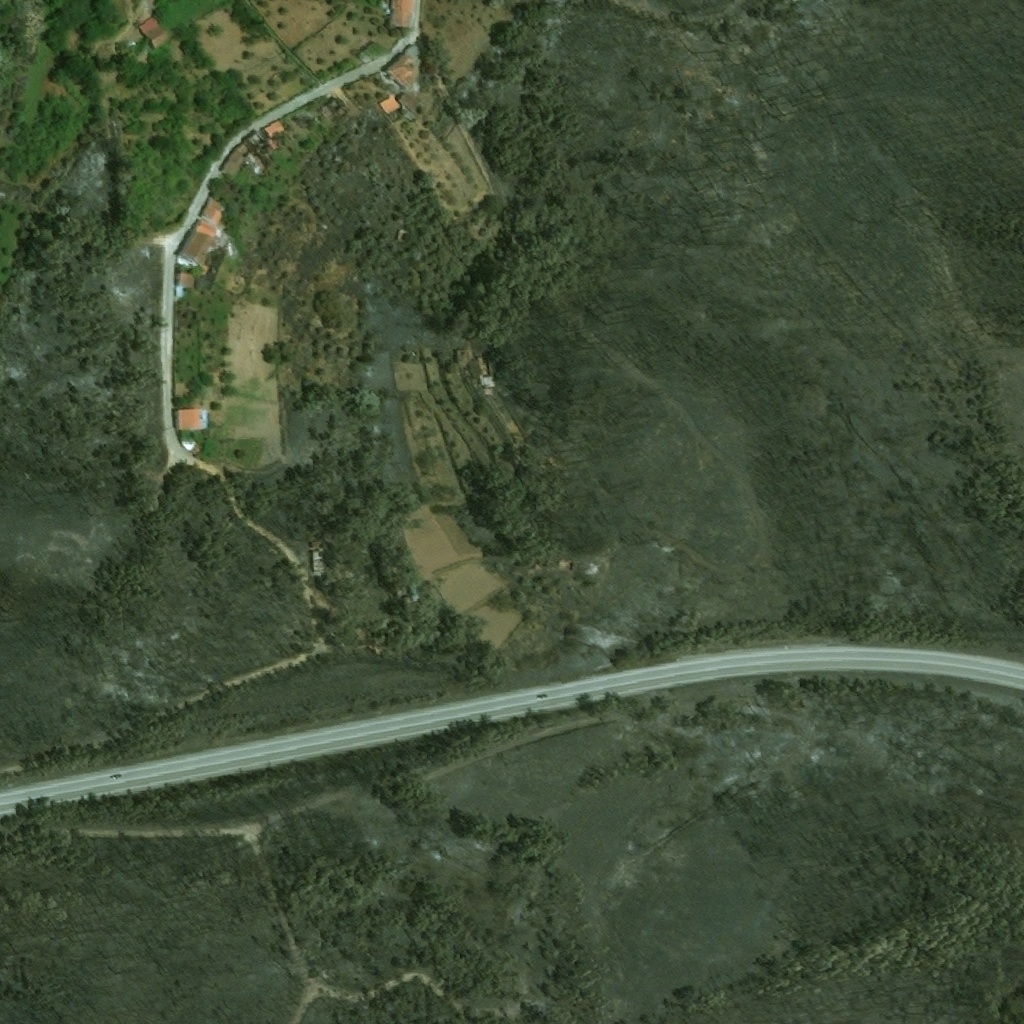0 no-damage: (177, 222, 216, 264), (221, 141, 256, 178), (387, 52, 418, 92), (139, 19, 170, 49), (247, 130, 277, 157), (200, 197, 225, 224), (178, 408, 204, 431), (389, 0, 413, 22), (379, 95, 401, 114), (264, 121, 284, 137), (175, 272, 194, 287)
1 minor-damage: (311, 543, 327, 571), (397, 230, 409, 242)
2 major-damage: (483, 377, 498, 391)
3 destroyed: (327, 98, 348, 117)
